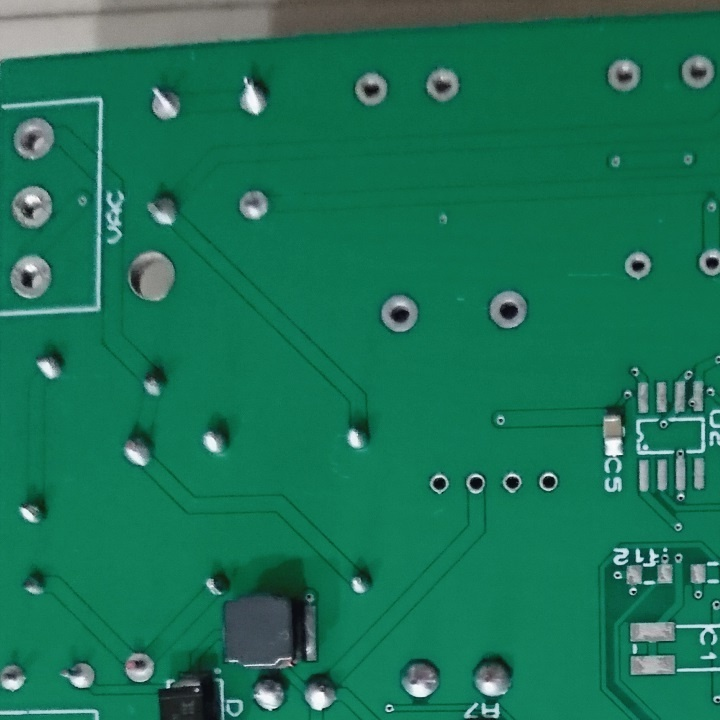F: (9, 250, 56, 308), (481, 287, 534, 335), (9, 114, 59, 163), (9, 183, 58, 230), (376, 293, 425, 336), (420, 63, 463, 108), (678, 50, 720, 94), (141, 82, 185, 123), (54, 658, 100, 695), (604, 54, 644, 96), (349, 68, 391, 108), (235, 184, 274, 226), (118, 651, 158, 686), (616, 249, 652, 282), (1, 662, 32, 695), (424, 472, 453, 500), (694, 245, 720, 276), (499, 468, 525, 498), (533, 469, 561, 496), (462, 471, 488, 498)
